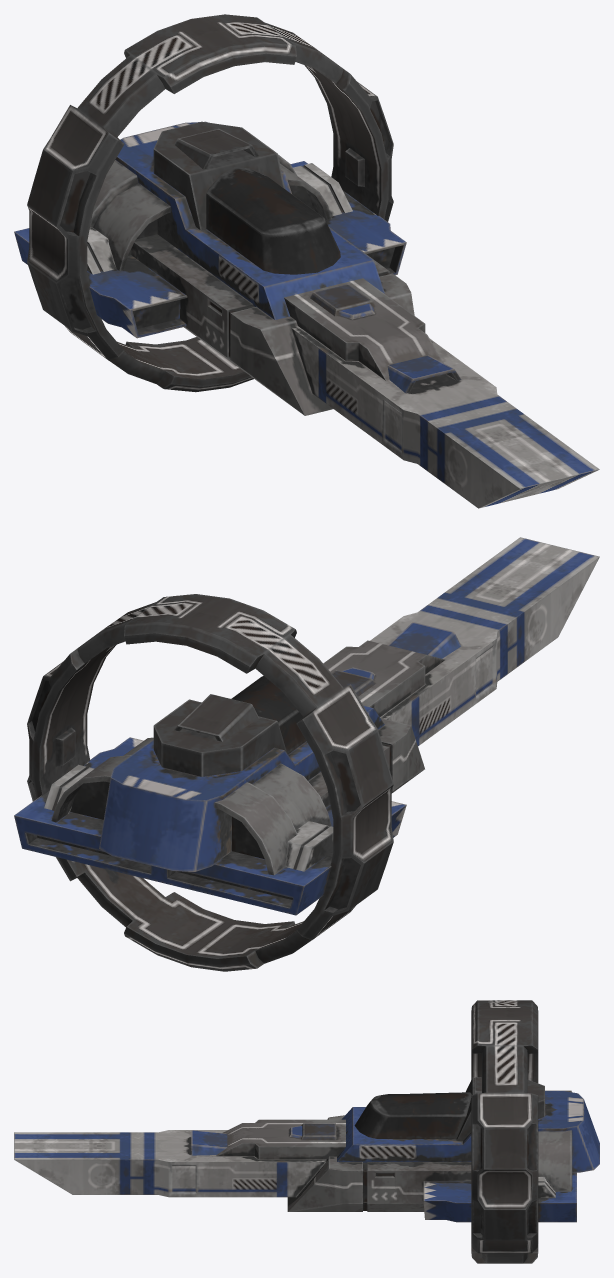
Rendered from zenith.glb.
3 renders of one model, top to bottom at view 1: azimuth 30°, elevation 25°; view 2: azimuth 150°, elevation 25°; view 3: azimuth 270°, elevation 25°, orthographic. The views are drawn at different scales.
Size of the model in its own units: 5.63 by 5.43 by 12.07.
1 material, 1 textured.
